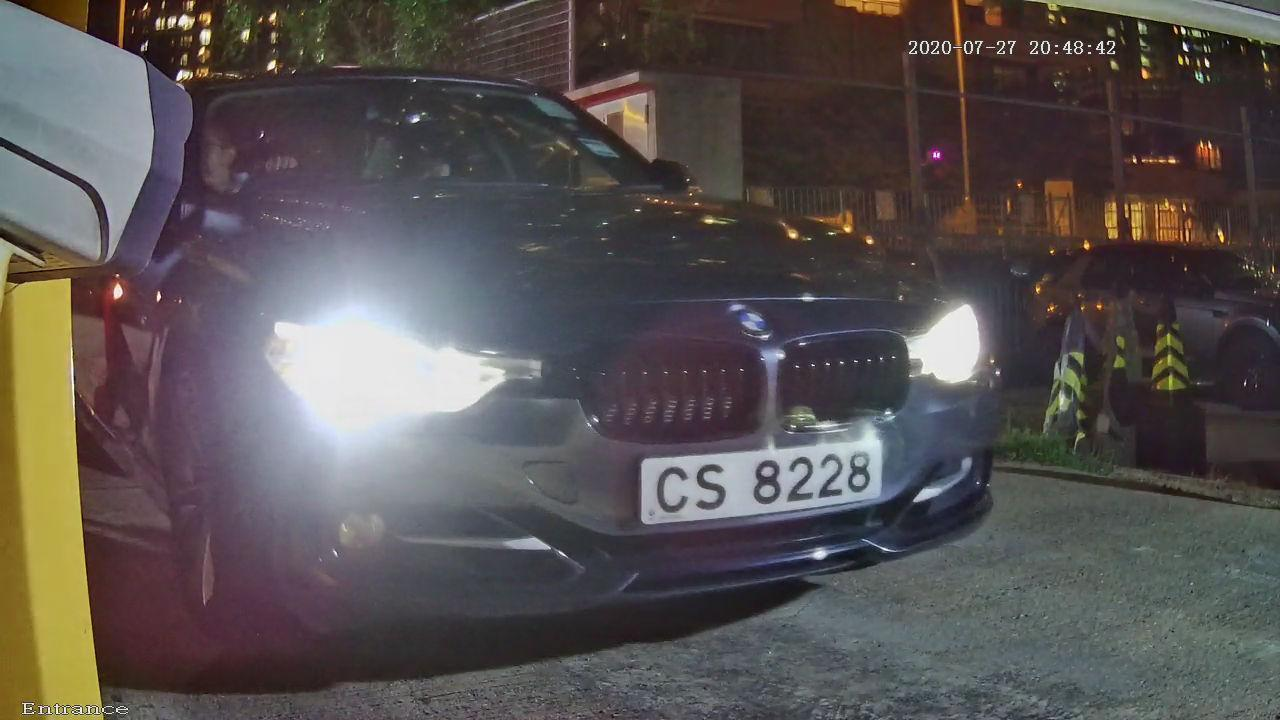privatecar: (132, 17, 1058, 669)
